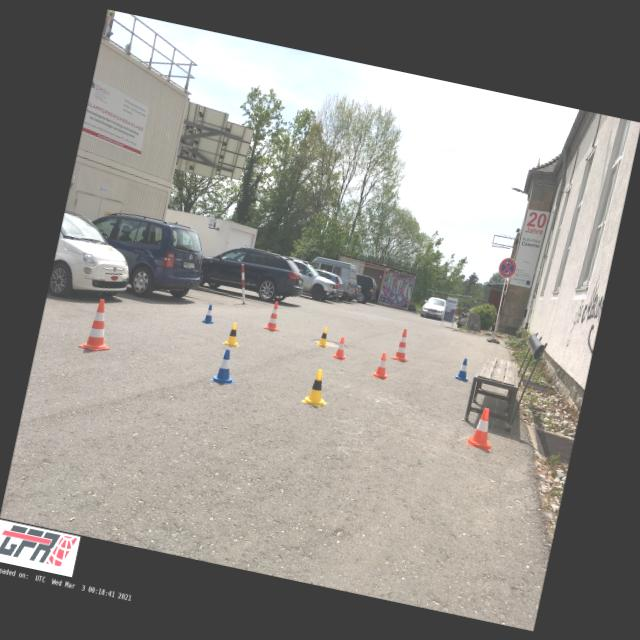blue_cone: (208, 346, 240, 386), (453, 357, 473, 382), (200, 303, 218, 325)
large_orange_cone: (77, 296, 119, 353), (391, 327, 414, 362), (262, 298, 284, 330)
orange_cone: (466, 406, 498, 450), (372, 351, 392, 380), (332, 336, 348, 360)
yellow_cone: (300, 366, 333, 408), (222, 320, 244, 348), (316, 326, 330, 348)
